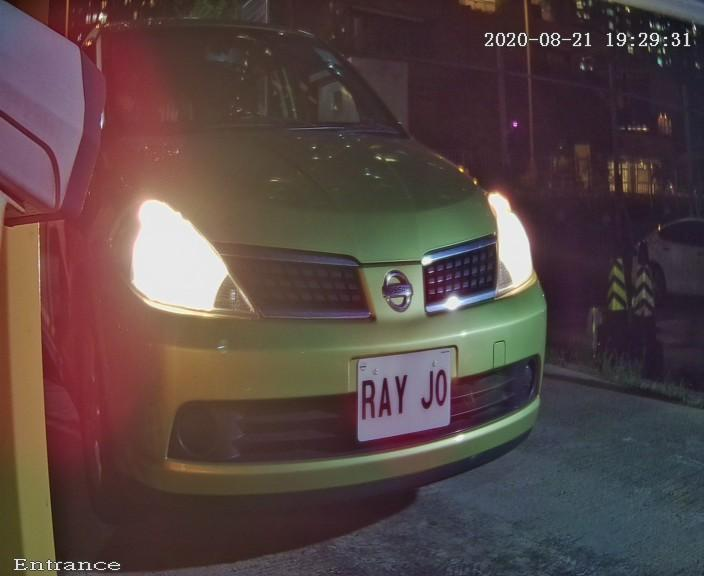Car: (1, 21, 620, 543)
License Plate: (334, 337, 459, 445)
